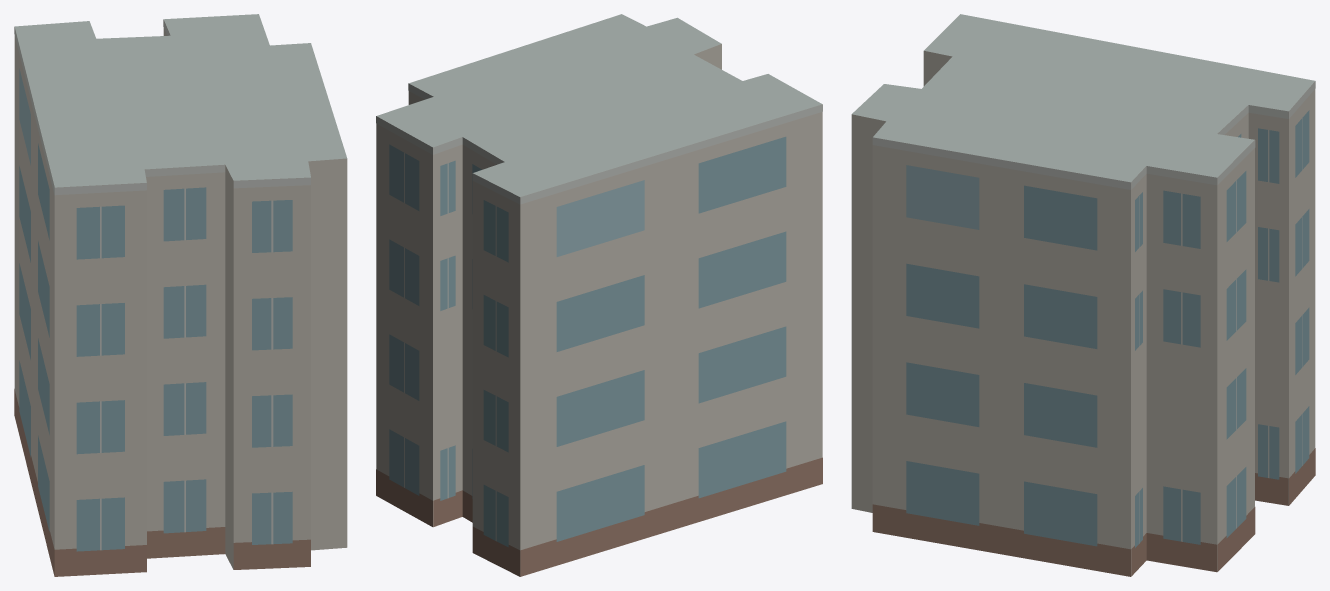
Rendered from survey-upis-32780468.glb.
The picture shows the model from 3 angles, left to right: view 1: azimuth 30°, elevation 25°; view 2: azimuth 150°, elevation 25°; view 3: azimuth 270°, elevation 25°; orthographic projection. The views are drawn at different scales.
Parts seen in each view (by area): view 1: survey-upis-32780468.tmp; view 2: survey-upis-32780468.tmp; view 3: survey-upis-32780468.tmp.
Boxes of the visible parts, x1,y1,x2,y2 form: survey-upis-32780468.tmp: [14, 14, 347, 576]; survey-upis-32780468.tmp: [376, 14, 822, 576]; survey-upis-32780468.tmp: [851, 14, 1315, 576].
Size of the model in its own units: 11.38 by 12.42 by 13.25.
